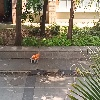fire: (32, 52, 40, 60)
